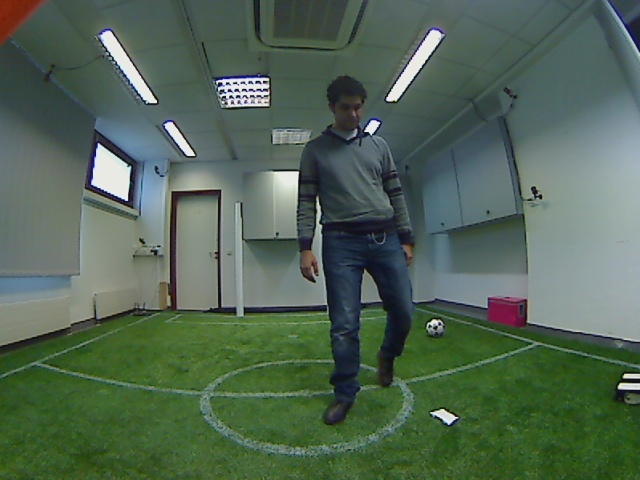ball: (422, 313, 448, 340)
